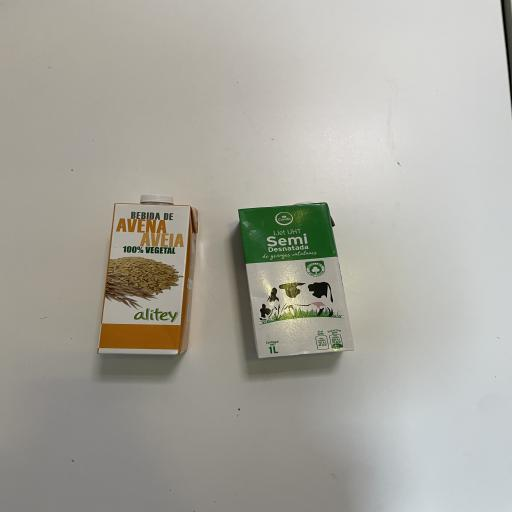milk: (230, 198, 361, 361)
oat_milk: (98, 188, 204, 368)
